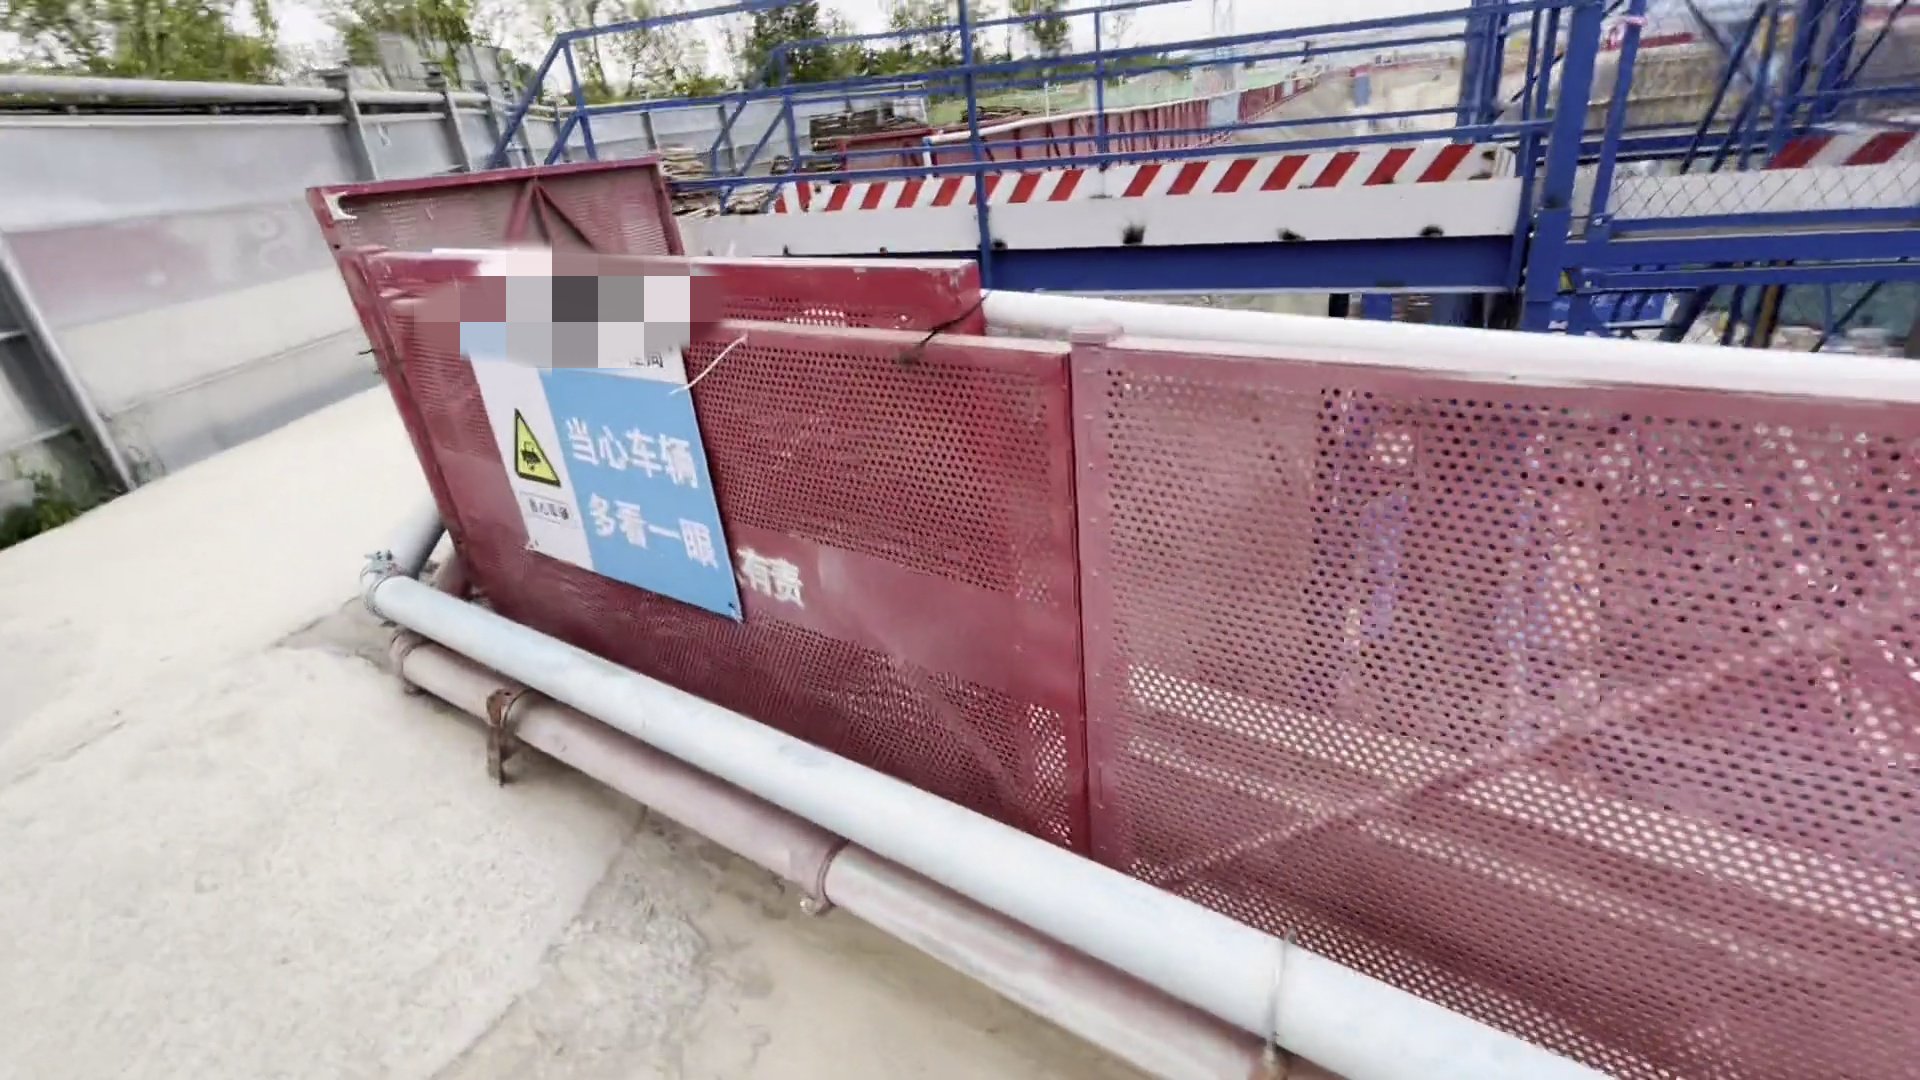fence: (338, 109, 1899, 1073)
slogan: (447, 264, 756, 625)
